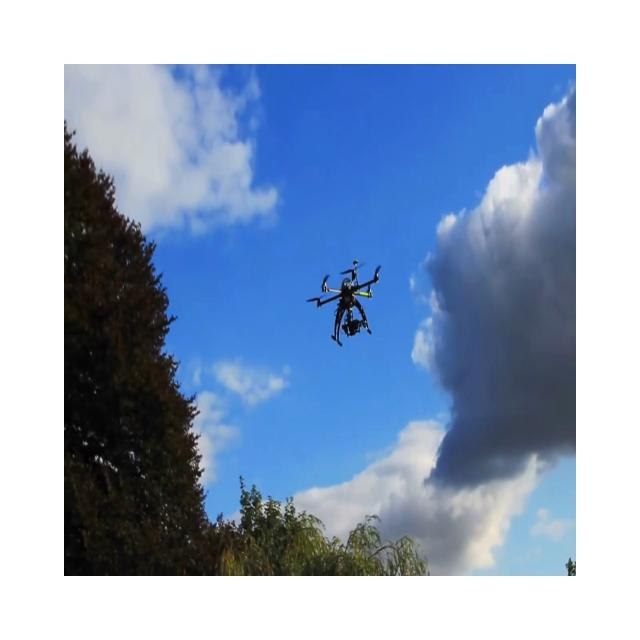drone: (306, 258, 381, 347)
